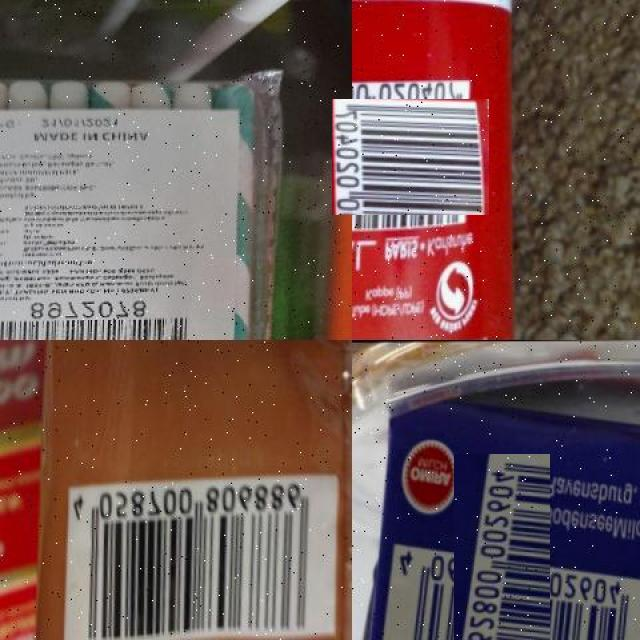Barcode: (60, 475, 342, 640), (409, 499, 595, 640), (342, 89, 479, 226), (0, 303, 199, 340)
